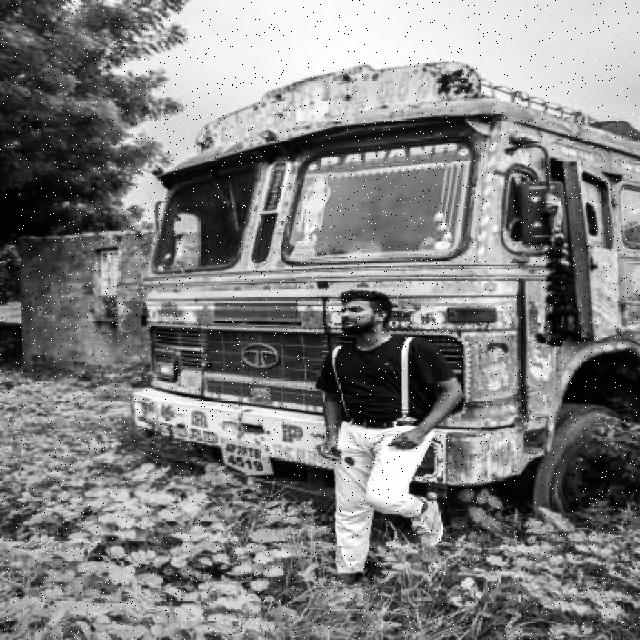HCV: (152, 103, 627, 530)
